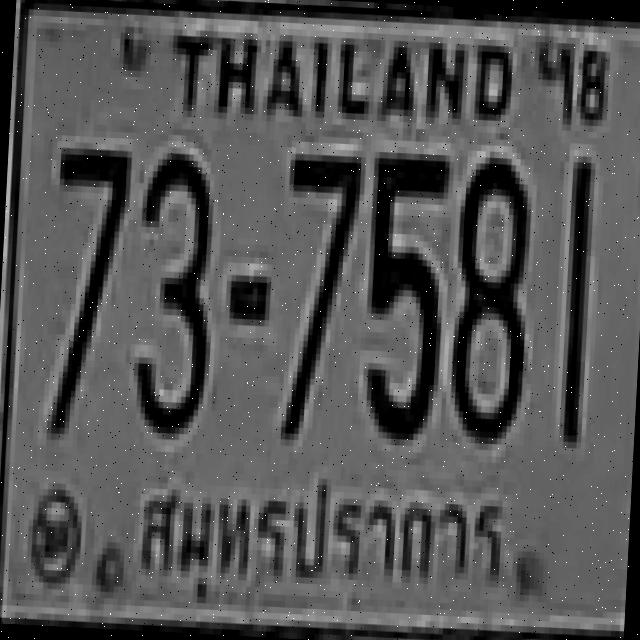1: (557, 156, 594, 436)
3: (126, 146, 216, 436)
5: (358, 146, 448, 428), (362, 148, 446, 320)
7: (43, 138, 128, 434), (274, 144, 360, 433), (45, 141, 128, 393), (48, 138, 128, 340), (280, 144, 360, 340), (280, 148, 360, 318)
8: (444, 150, 530, 439)
SamutPrakan: (109, 455, 526, 625)
